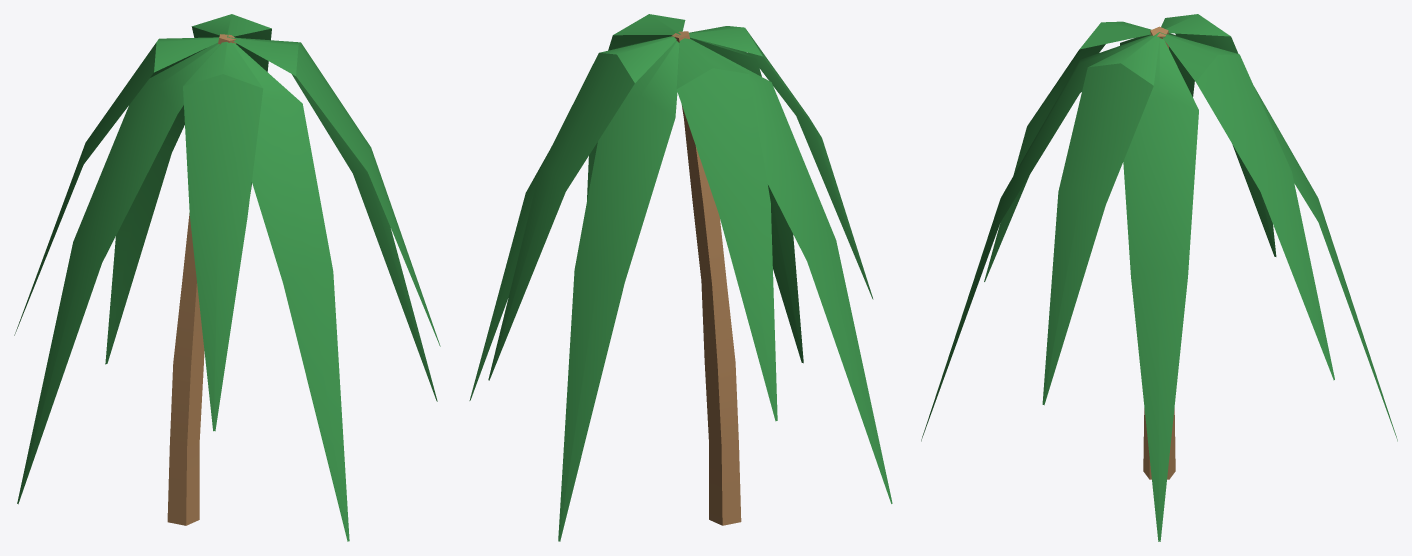
Rendered from lod_palm_royal.glb.
3 renders of one model, left to right at view 1: azimuth 30°, elevation 25°; view 2: azimuth 150°, elevation 25°; view 3: azimuth 270°, elevation 25°, orthographic. The views are drawn at different scales.
Parts seen in each view (by area): view 1: lod_palm_royal; view 2: lod_palm_royal; view 3: lod_palm_royal.
Boxes of the visible parts, x1,y1,x2,y2 form: lod_palm_royal: (14,14,440,541); lod_palm_royal: (469,14,892,541); lod_palm_royal: (921,14,1397,541).
Bounding box in the file's own units: 8.4 × 9.03 × 8.4.
